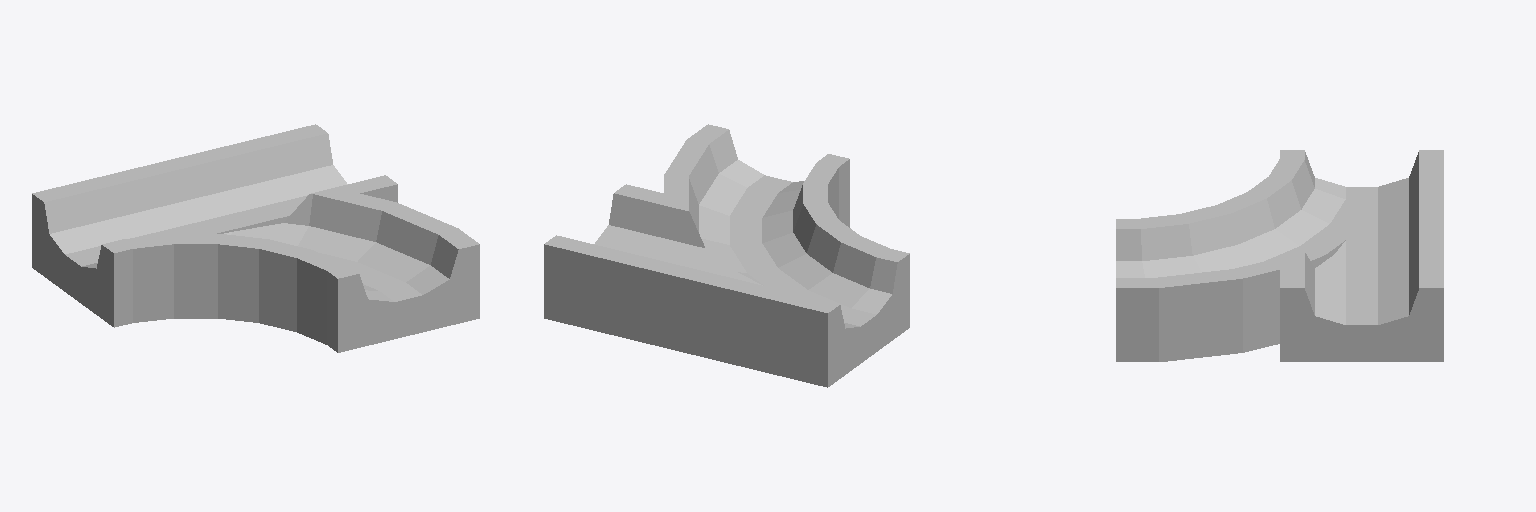
The model's file is split-right.obj.
The picture shows the model from 3 angles: view 1: azimuth 30°, elevation 25°; view 2: azimuth 150°, elevation 25°; view 3: azimuth 270°, elevation 25°; orthographic projection.
Visible parts, largest first — view 1: split-right; view 2: split-right; view 3: split-right.
Part boxes in pixels (x1,y1,x2,y2): split-right: (32,124,479,352); split-right: (544,124,909,387); split-right: (1116,150,1443,361).
Bounding box in the file's own units: 2 × 0.5 × 2.